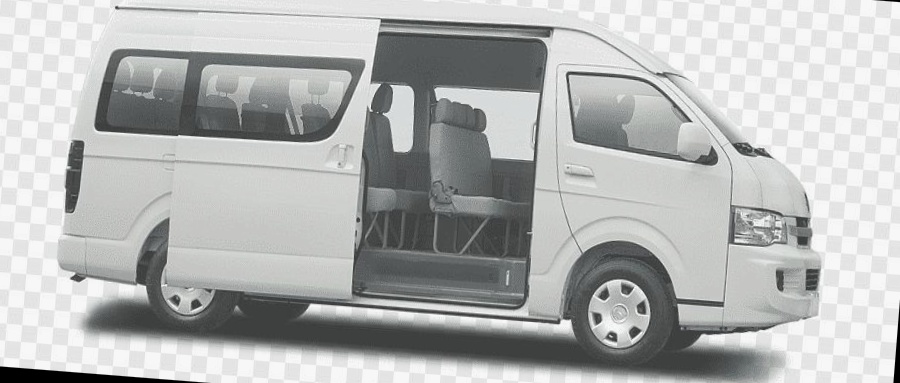van: (25, 0, 857, 374)
